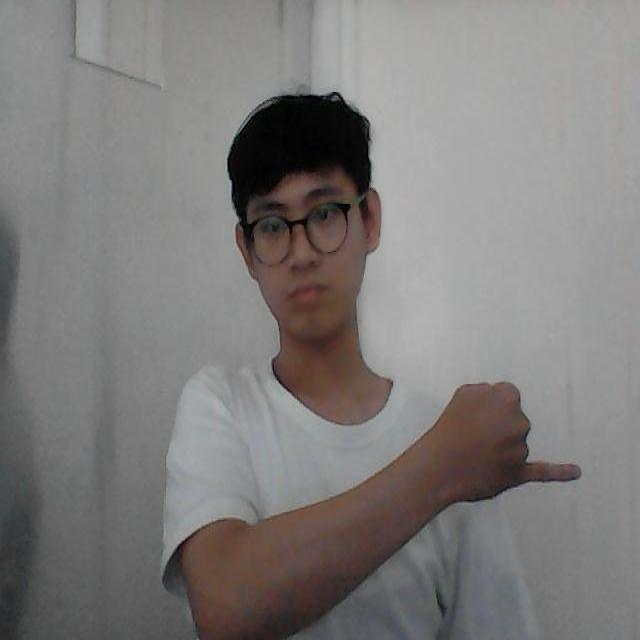J: (442, 376, 586, 506)
